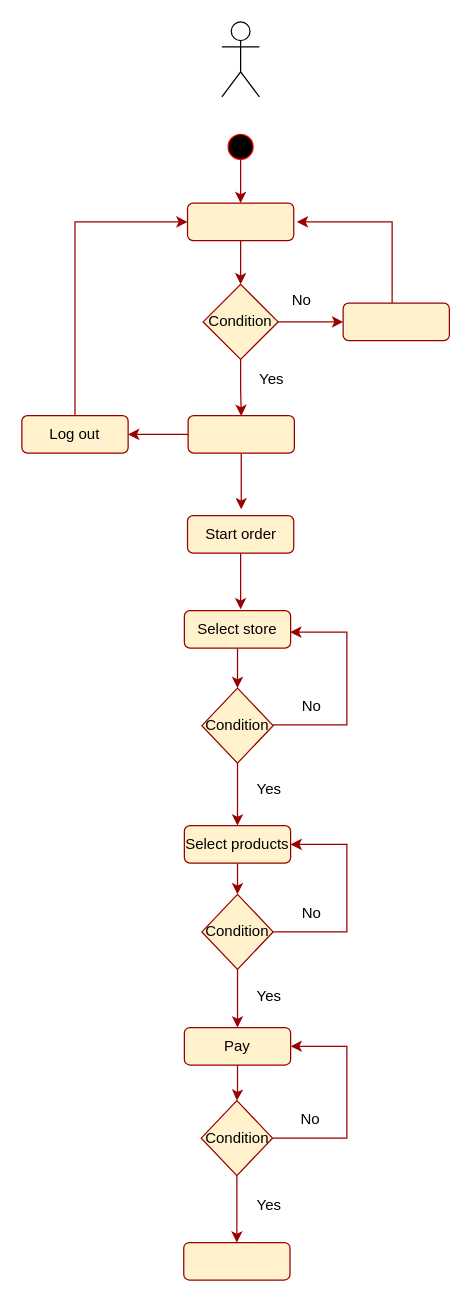
Image size: 471x1303. Some labels were removed from this diagram. The shapes that lost their labels are listed below. From the top down, each one's centre as x and y in pixels, then its label:
pixel 240 59: User
pixel 240 221: Log in
pixel 395 321: Sign up
pixel 240 433: Home
pixel 236 1260: Save QR code
